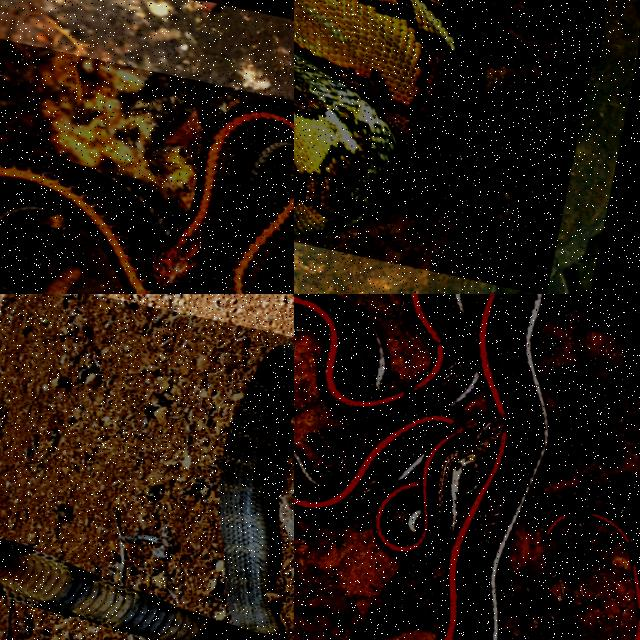Calliophis intestinalis: (294, 294, 548, 639), (0, 100, 293, 293)
Malayopython reticulatus: (294, 0, 600, 236)
Ophiophagus hannah: (0, 343, 293, 639)
snake: (294, 294, 548, 639), (0, 343, 293, 639), (294, 0, 600, 236), (0, 100, 293, 293)
